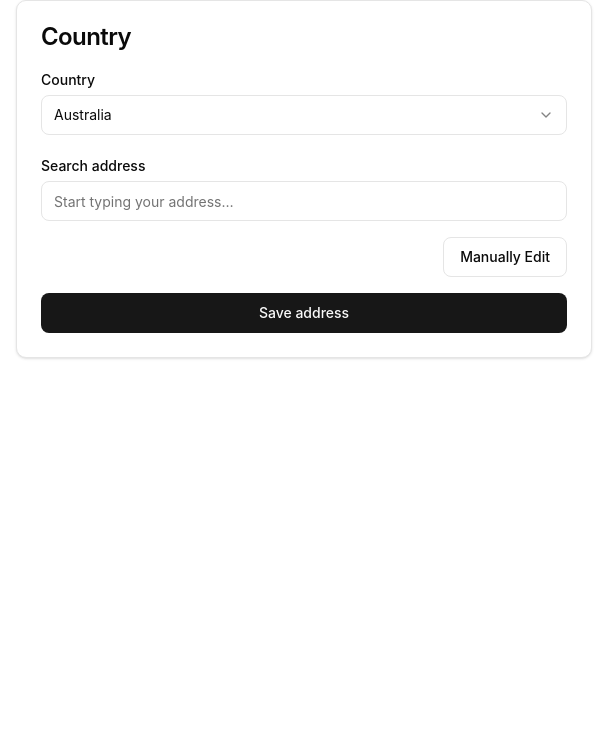
AddressForm — manual mode renders the right fields per country (US2) › renders the AUS field set
Click the button "Manually Edit" at [505, 257], box [443,237,567,277]
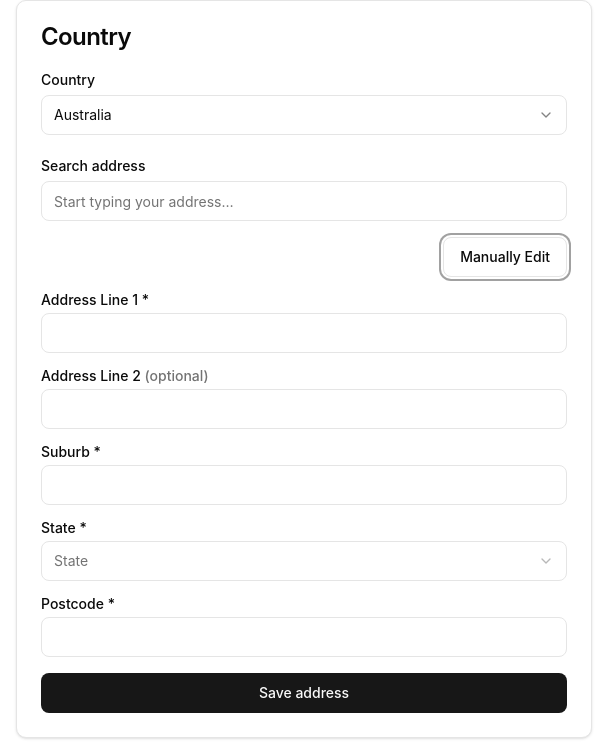
Now the field labelled "Suburb *" is shown, box [41,465,567,505]
Now the field labelled "Postcode *" is shown, box [41,617,567,657]
Now the dropdown labelled "State" is shown, box [41,541,567,581]
